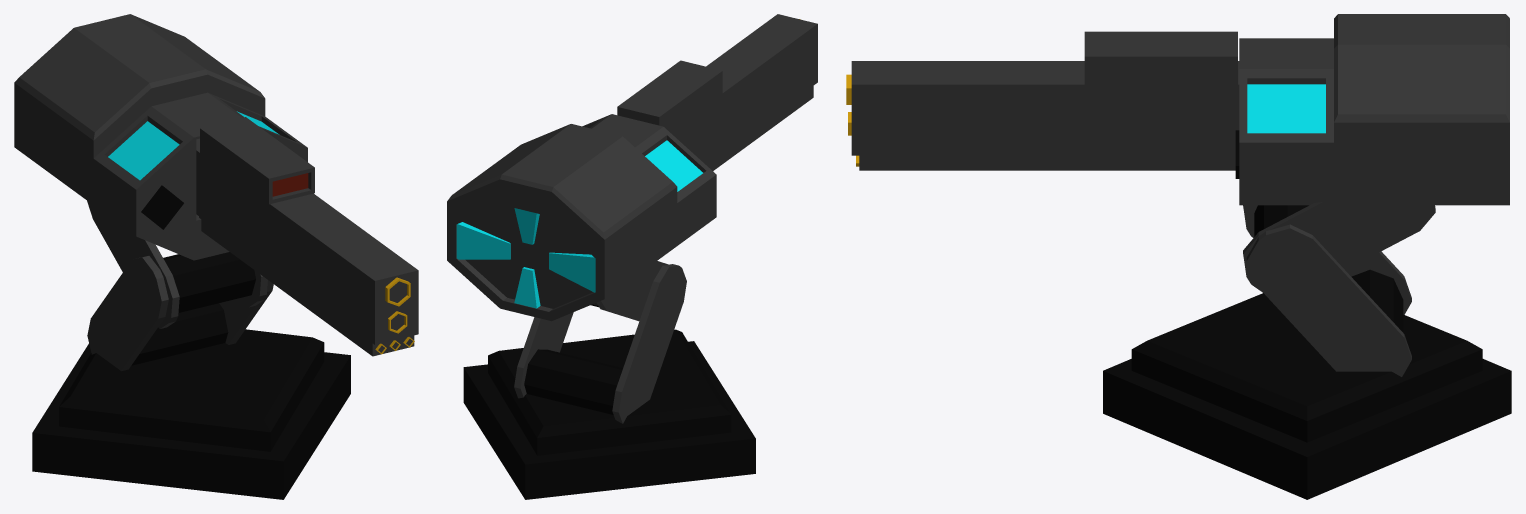
The model's file is Rail Gun Turret.glb.
3 renders of one model, left to right at view 1: azimuth 30°, elevation 25°; view 2: azimuth 150°, elevation 25°; view 3: azimuth 270°, elevation 25°, orthographic. The views are drawn at different scales.
Visible parts, largest first — view 1: BaseRailGunTurret1, StorageGunTurret1, GunRailGunTurret1, MidleRailGunTurret1; view 2: StorageGunTurret1, BaseRailGunTurret1, GunRailGunTurret1, MidleRailGunTurret1; view 3: StorageGunTurret1, BaseRailGunTurret1, GunRailGunTurret1, MidleRailGunTurret1.
Boxes of the visible parts, x1,y1,x2,y2 form: BaseRailGunTurret1: (32, 329, 350, 499); StorageGunTurret1: (14, 14, 307, 260); GunRailGunTurret1: (196, 117, 418, 356); MidleRailGunTurret1: (87, 201, 273, 371); StorageGunTurret1: (447, 114, 716, 321); BaseRailGunTurret1: (463, 329, 755, 499); GunRailGunTurret1: (617, 14, 817, 170); MidleRailGunTurret1: (514, 261, 686, 423); StorageGunTurret1: (1235, 14, 1509, 205); BaseRailGunTurret1: (1103, 293, 1511, 499); GunRailGunTurret1: (846, 31, 1239, 170); MidleRailGunTurret1: (1243, 201, 1435, 376).
Bounding box in the file's own units: 2.8 × 2.9 × 4.55.
